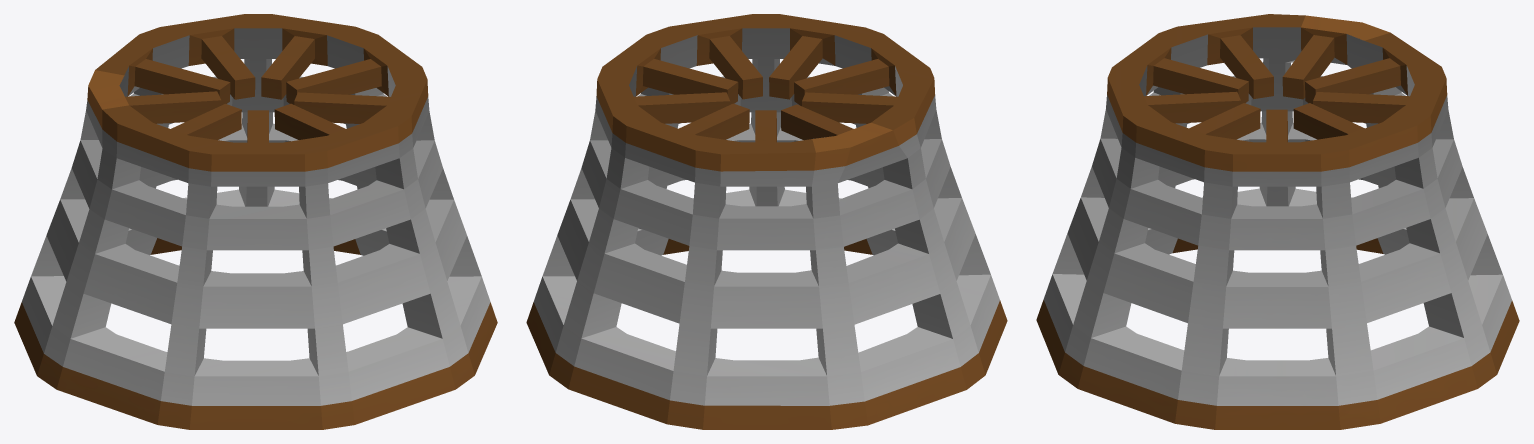
Rendered from basket.glb.
The picture shows the model from 3 angles, left to right: view 1: azimuth 30°, elevation 25°; view 2: azimuth 150°, elevation 25°; view 3: azimuth 270°, elevation 25°; orthographic projection.
Parts seen in each view (by area): view 1: Cylinder.009; view 2: Cylinder.009; view 3: Cylinder.009.
Boxes of the visible parts, box(x1,y1,x2,y2) form: Cylinder.009: box(14, 14, 497, 429); Cylinder.009: box(526, 14, 1007, 429); Cylinder.009: box(1036, 14, 1519, 429).
Size of the model in its own units: 1.27 by 0.7244 by 1.28.
1 material, 1 textured.
